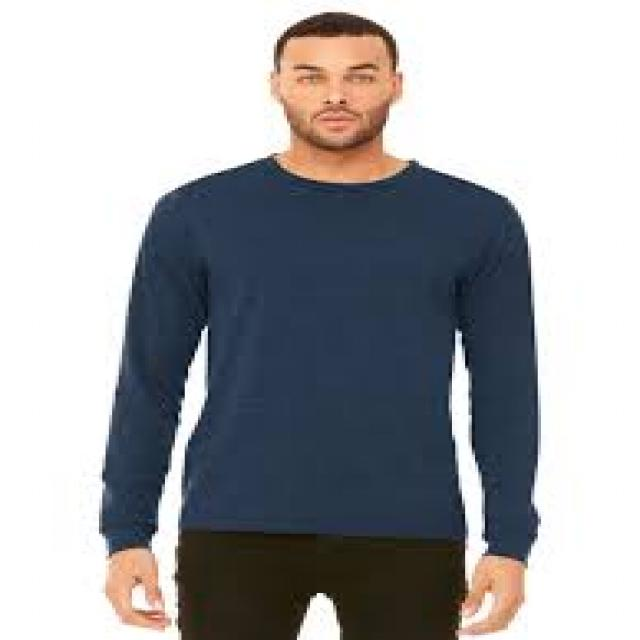plain: (88, 146, 550, 560)
